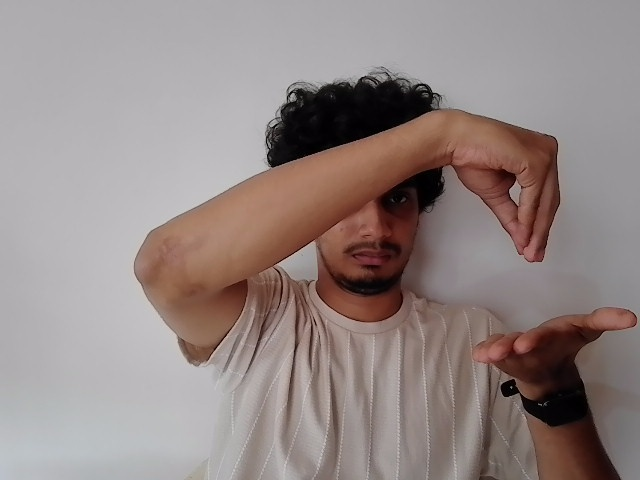learn: (433, 108, 640, 376)
